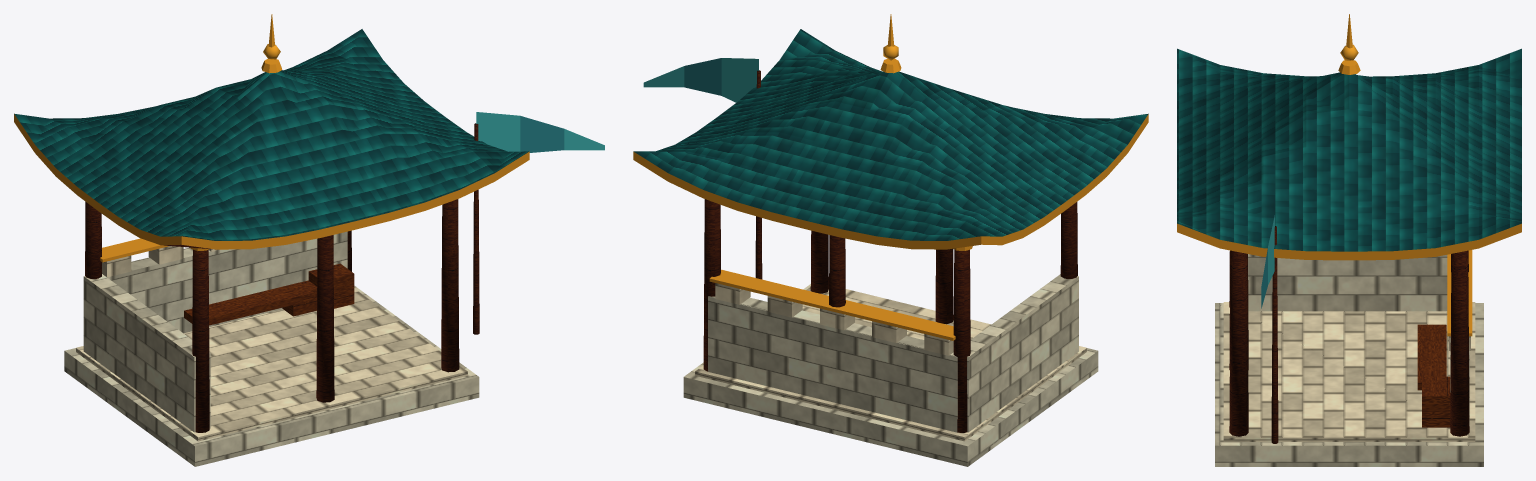
Rendered from watch_shelter.glb.
3 views of the same model, side by side, from view 1: azimuth 30°, elevation 25°; view 2: azimuth 150°, elevation 25°; view 3: azimuth 270°, elevation 25° (orthographic). The views are drawn at different scales.
Visible parts, largest first — view 1: watch_shelter; view 2: watch_shelter; view 3: watch_shelter.
Boxes of the visible parts, x1,y1,x2,y2 form: watch_shelter: (14, 14, 604, 466); watch_shelter: (633, 14, 1148, 466); watch_shelter: (1177, 14, 1521, 466).
Size of the model in its own units: 8 by 6.1 by 5.
6 materials, 3 textured.
